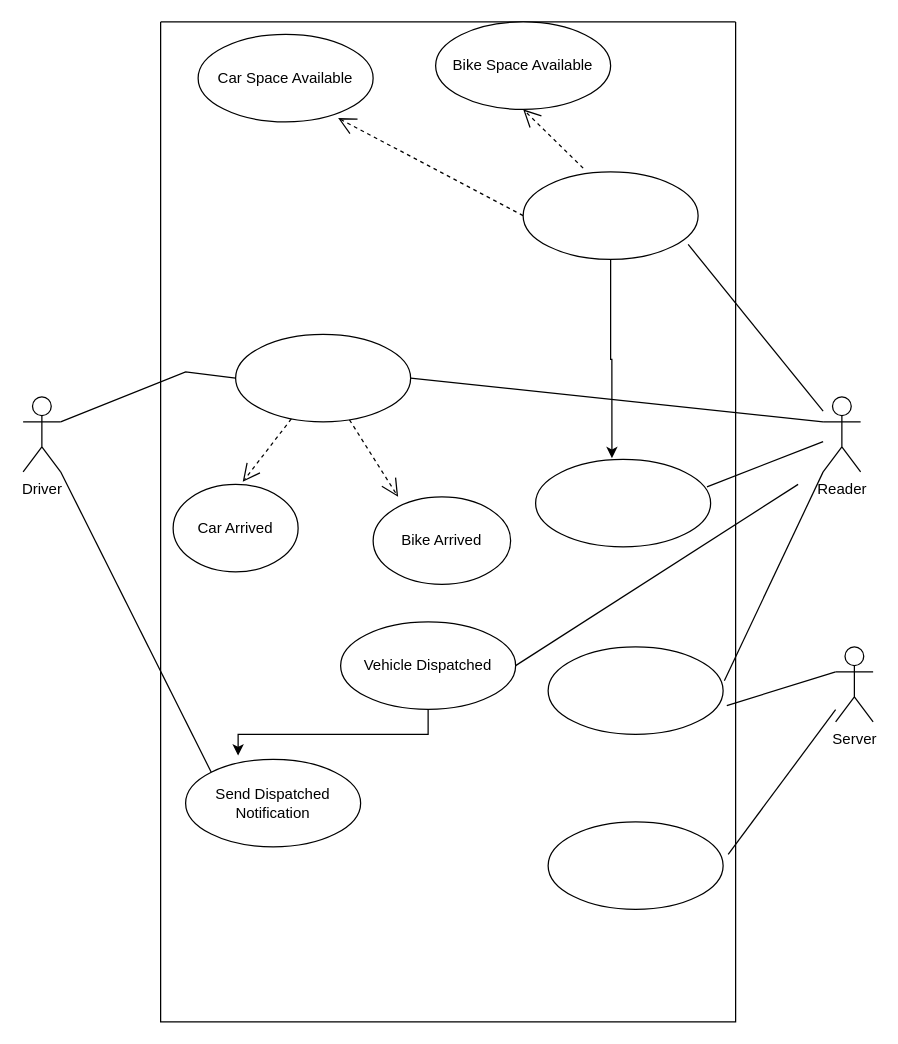
Some shapes in this 898 by 1044 pixel diagram are drawn without their labels. Here are the shapes that lost their labels. From the top down, the centre of each, then its label:
pixel 610 215: Parking Space Available
pixel 322 377: Vehicle Arrived
pixel 622 502: Redundancy Checking
pixel 635 690: Parking Space Allot
pixel 635 865: Update Data
